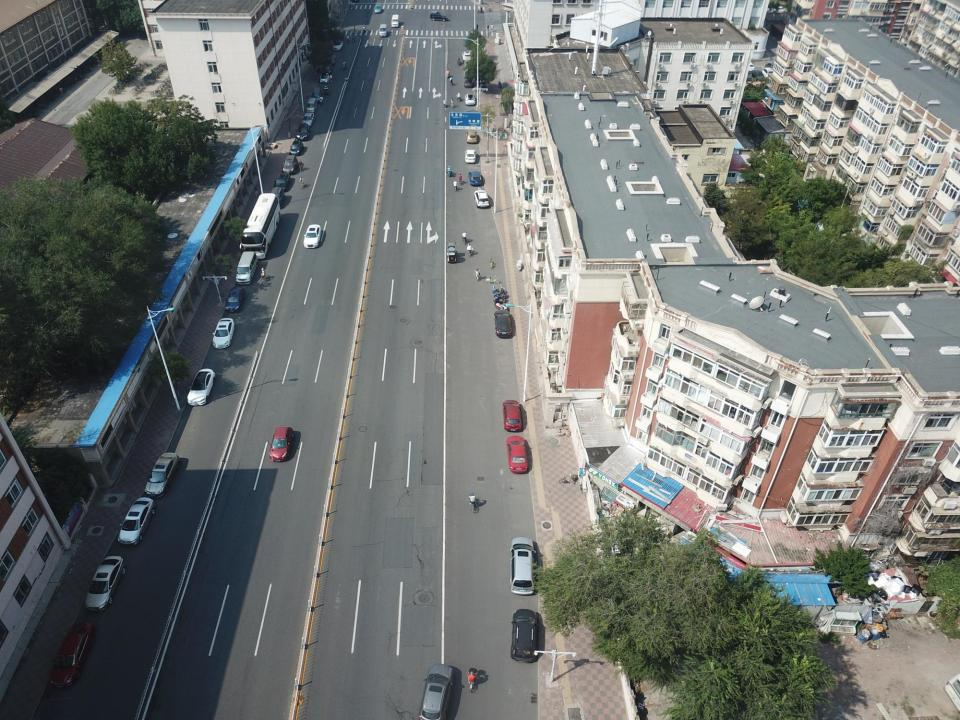car: (48, 620, 96, 688), (84, 554, 127, 612), (116, 496, 156, 550), (420, 664, 454, 719), (509, 536, 539, 595), (508, 608, 539, 663), (145, 451, 179, 500), (186, 368, 216, 406), (267, 426, 295, 462), (505, 435, 530, 474), (212, 318, 236, 349), (501, 399, 523, 432), (224, 286, 246, 314), (493, 310, 512, 338), (302, 223, 322, 249), (321, 54, 337, 84), (464, 60, 476, 88), (468, 170, 485, 188), (473, 189, 489, 207), (282, 156, 298, 174), (290, 140, 304, 156), (464, 148, 477, 165), (465, 129, 478, 145), (766, 5, 788, 14), (297, 124, 310, 139), (751, 68, 764, 82), (306, 97, 317, 112), (464, 93, 476, 106), (303, 112, 314, 126), (765, 62, 779, 73), (762, 67, 774, 79), (462, 50, 474, 61), (332, 38, 343, 50), (744, 61, 754, 72), (374, 4, 382, 14)
van: (238, 193, 282, 260), (234, 252, 256, 286), (272, 173, 290, 191), (271, 186, 287, 205), (430, 10, 448, 22), (378, 23, 388, 37), (391, 13, 400, 27)
